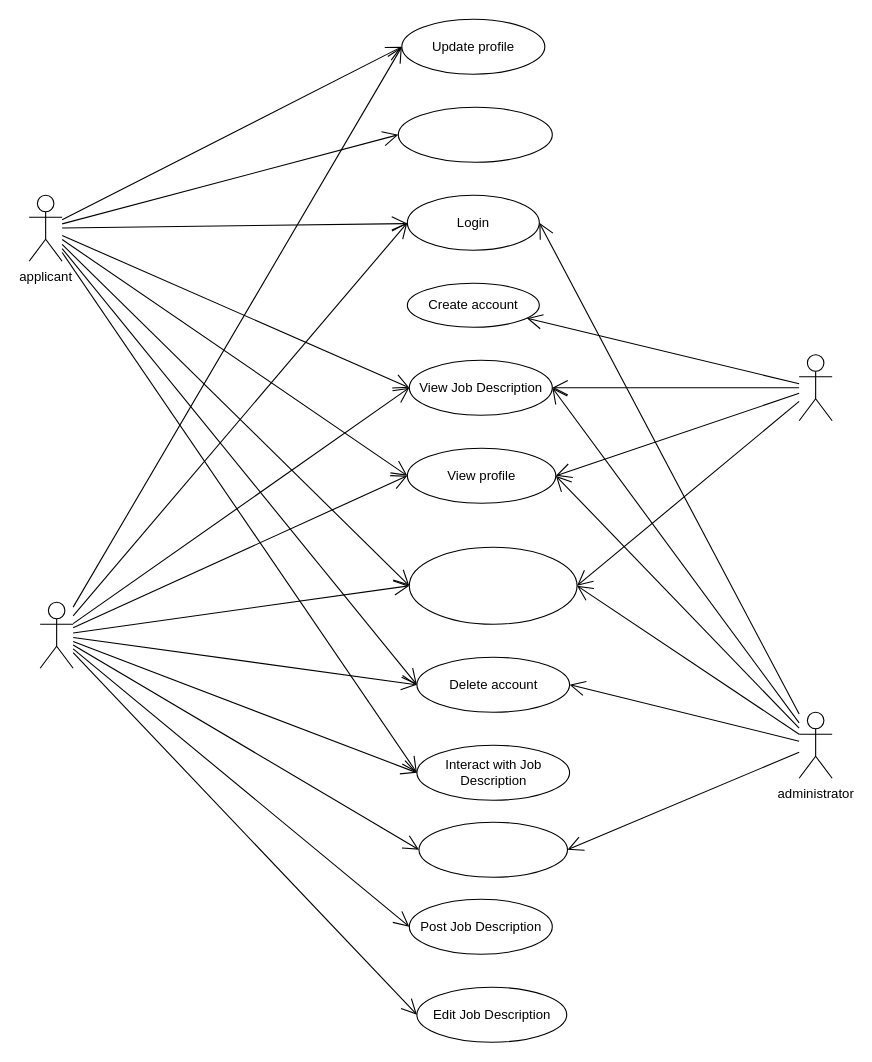
This 872x1062 diagram has some shape labels left out. The centre of each missing label's shape, as x and y in pixels:
"Apply into Job Description post" goes at (474,134).
"Delete Job Description" goes at (492,849).
"employer" goes at (56,634).
"Search for Post, Employer and Applicant" goes at (492,585).
"visitor" goes at (815,387).
